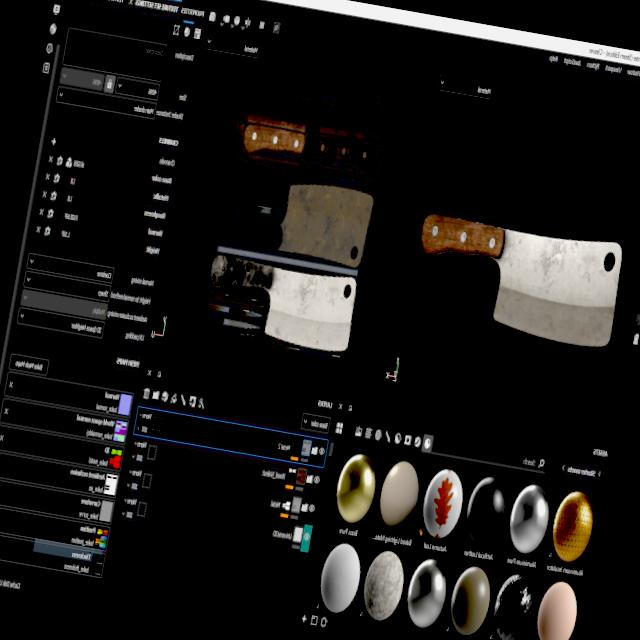cleaver: (402, 202, 630, 356)
